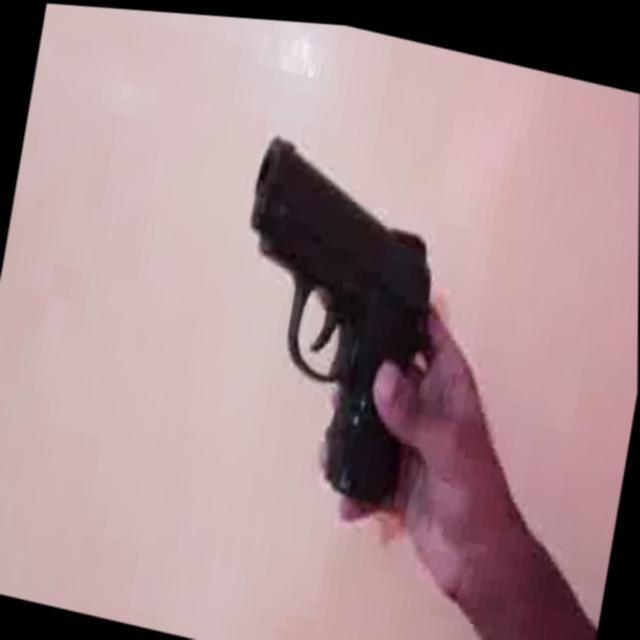weapon: (208, 121, 466, 514)
